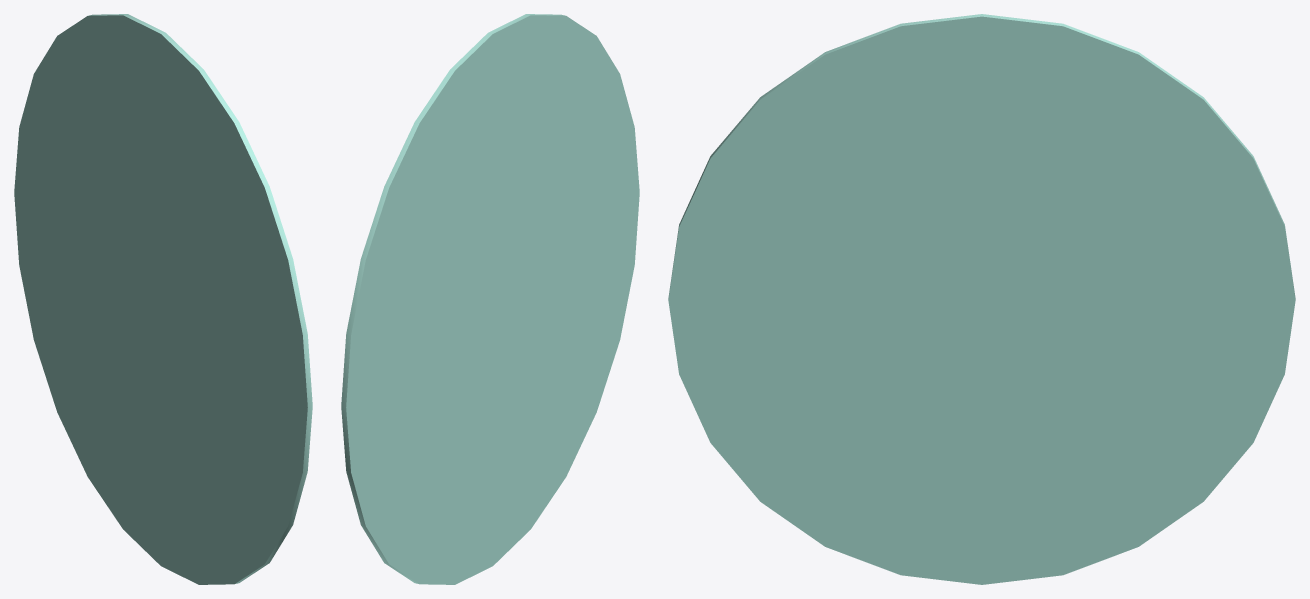
File: signstreet007a.fbx
The picture shows the model from 3 angles, left to right: view 1: azimuth 30°, elevation 25°; view 2: azimuth 150°, elevation 25°; view 3: azimuth 270°, elevation 25°; orthographic projection. The views are drawn at different scales.
Parts seen in each view (by area): view 1: streetsign003a_reference; view 2: streetsign003a_reference; view 3: streetsign003a_reference.
Boxes of the visible parts, x1,y1,x2,y2 form: streetsign003a_reference: [14, 14, 312, 584]; streetsign003a_reference: [341, 14, 639, 584]; streetsign003a_reference: [668, 14, 1295, 584].
Bounding box in the file's own units: 23.04 × 2371 × 2371.
